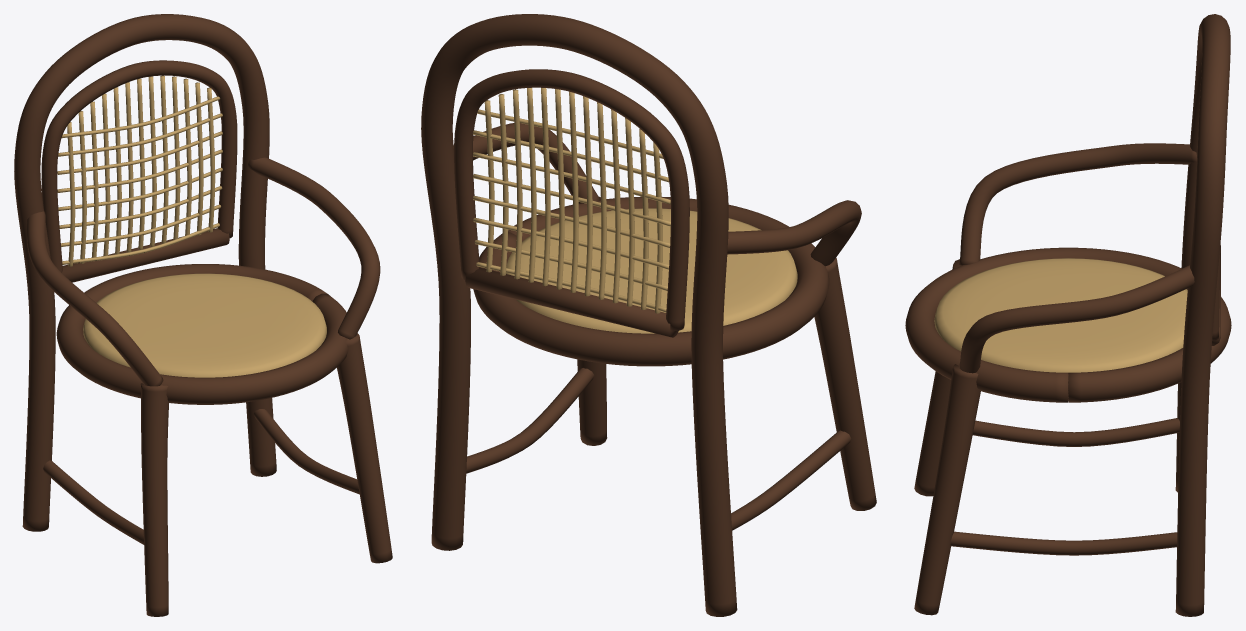
The model's file is rr_loop_bentwood_chair_v2.glb.
The picture shows the model from 3 angles, left to right: view 1: azimuth 30°, elevation 25°; view 2: azimuth 150°, elevation 25°; view 3: azimuth 270°, elevation 25°; orthographic projection. The views are drawn at different scales.
Visible parts, largest first — view 1: Continuous bentwood back hoop.001, Woven seat pad.001, Round seat frame.001, Inner back loop.001, Splayed front leg.002, Splayed front leg.003, Curved arm rail.003, Curved arm rail.002, Seat rear brace.001, Side stretcher.003, Side stretcher.002, Back cord.019 (+20 smaller); view 2: Continuous bentwood back hoop.001, Round seat frame.001, Woven seat pad.001, Inner back loop.001, Splayed front leg.002, Seat rear brace.001, Curved arm rail.002, Side stretcher.003, Side stretcher.002, Splayed front leg.003, Curved arm rail.003, Back cord.020 (+20 smaller); view 3: Continuous bentwood back hoop.001, Woven seat pad.001, Round seat frame.001, Splayed front leg.003, Curved arm rail.002, Curved arm rail.003, Side stretcher.003, Side stretcher.002, Splayed front leg.002.
Boxes of the visible parts, x1,y1,x2,y2 form: Continuous bentwood back hoop.001: (14, 14, 276, 531); Woven seat pad.001: (83, 273, 326, 377); Round seat frame.001: (56, 264, 348, 404); Inner back loop.001: (41, 60, 237, 272); Splayed front leg.002: (140, 383, 168, 616); Splayed front leg.003: (337, 333, 392, 563); Curved arm rail.003: (247, 157, 380, 339); Curved arm rail.002: (27, 210, 163, 386); Seat rear brace.001: (62, 228, 229, 282); Side stretcher.003: (253, 409, 359, 494); Side stretcher.002: (43, 460, 143, 544); Back cord.019: (137, 78, 145, 249); Continuous bentwood back hoop.001: (421, 14, 737, 616); Round seat frame.001: (473, 196, 829, 366); Woven seat pad.001: (506, 208, 797, 333); Inner back loop.001: (454, 69, 689, 330); Splayed front leg.002: (814, 258, 876, 510); Seat rear brace.001: (465, 267, 678, 337); Curved arm rail.002: (727, 200, 861, 266); Side stretcher.003: (466, 368, 594, 473); Side stretcher.002: (731, 430, 851, 530); Splayed front leg.003: (577, 196, 607, 445); Curved arm rail.003: (453, 123, 600, 203); Back cord.020: (555, 89, 564, 289); Continuous bentwood back hoop.001: (1175, 14, 1230, 616); Woven seat pad.001: (934, 258, 1187, 372); Round seat frame.001: (905, 247, 1231, 402); Splayed front leg.003: (914, 364, 980, 615); Curved arm rail.002: (959, 143, 1197, 265); Curved arm rail.003: (959, 265, 1194, 373); Side stretcher.003: (950, 531, 1177, 555); Side stretcher.002: (972, 418, 1179, 446); Splayed front leg.002: (914, 259, 960, 496).
Bounding box in the file's own units: 3.26 × 4.96 × 2.82.
